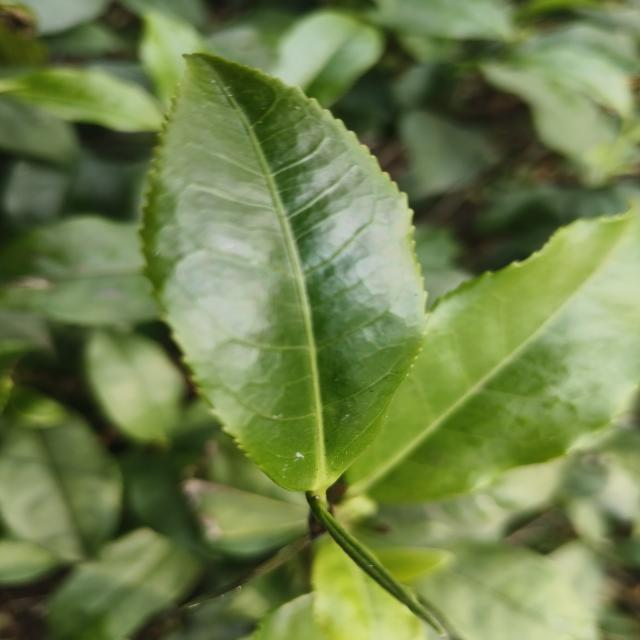Leaf: (142, 54, 425, 493), (348, 211, 640, 502), (353, 505, 599, 640), (0, 416, 122, 561), (0, 216, 159, 326), (47, 528, 200, 640), (483, 64, 609, 160), (312, 535, 426, 640), (85, 331, 185, 442), (271, 10, 384, 107), (0, 67, 164, 132), (183, 479, 307, 557), (516, 47, 633, 117), (401, 112, 481, 198), (139, 10, 208, 107), (0, 97, 78, 165)
